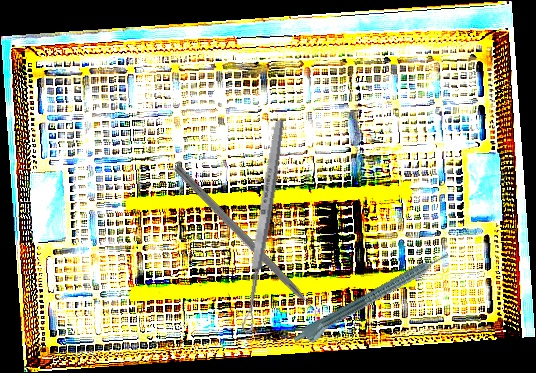Chopper: (165, 164, 329, 333)
Handpiece: (291, 248, 455, 352)
Surgical Spoon: (239, 118, 287, 334)
